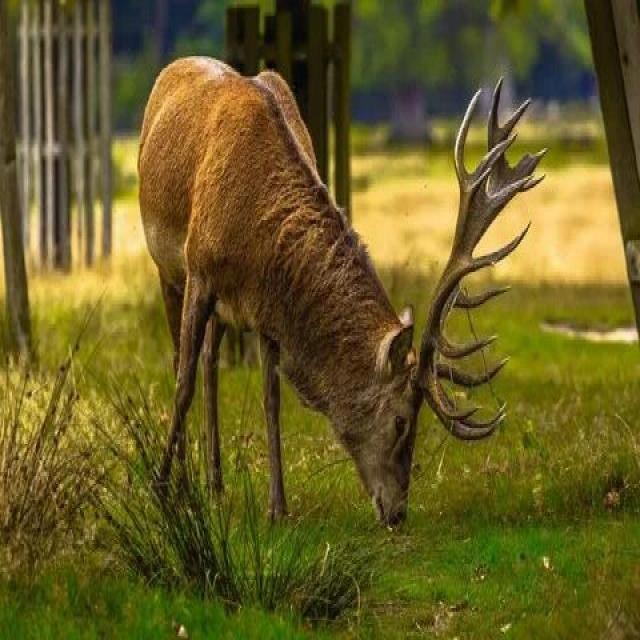deer: (101, 28, 445, 544)
